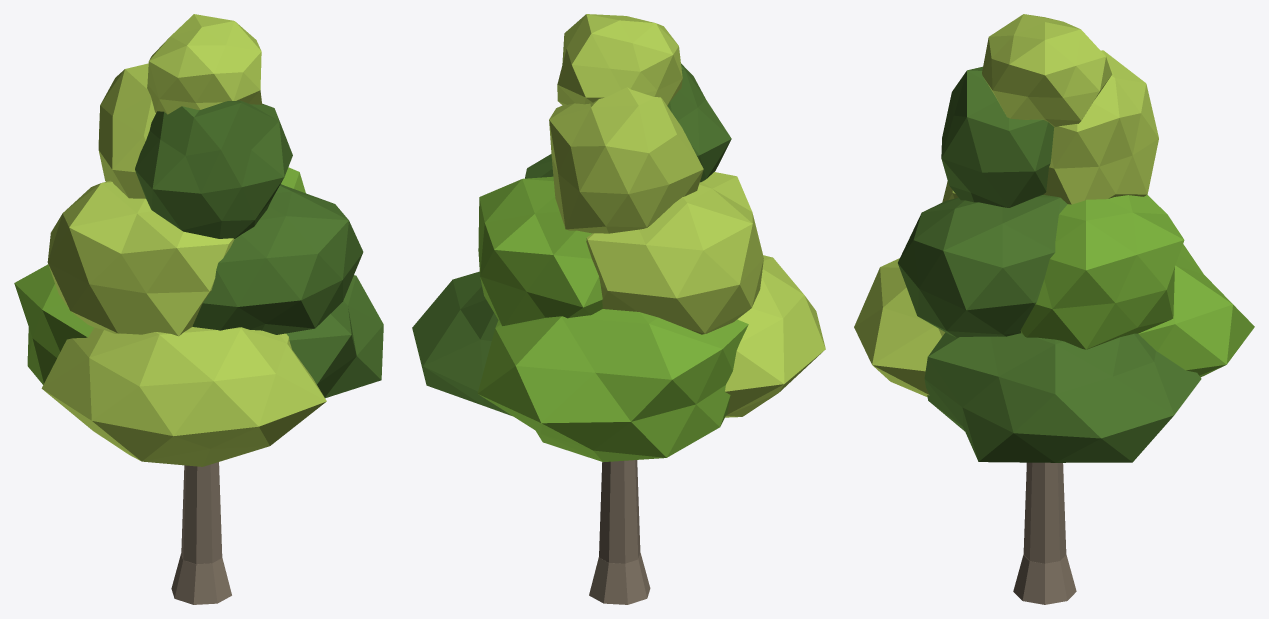
Rendered from tree_beech_3.glb.
3 renders of one model, left to right at view 1: azimuth 30°, elevation 25°; view 2: azimuth 150°, elevation 25°; view 3: azimuth 270°, elevation 25°, orthographic.
Visible parts, largest first — view 1: tree_beech_3; view 2: tree_beech_3; view 3: tree_beech_3.
Boxes of the visible parts, x1,y1,x2,y2 form: tree_beech_3: [14, 14, 383, 604]; tree_beech_3: [412, 14, 825, 604]; tree_beech_3: [854, 14, 1254, 604].
Size of what is drawn, in the model's own units: 6.78 by 10.81 by 6.9.
